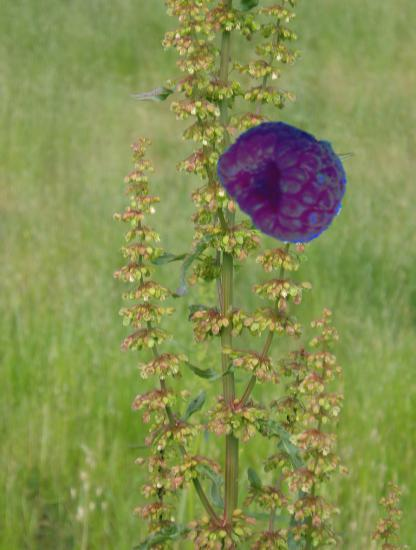Raspberry: (215, 115, 348, 248)
